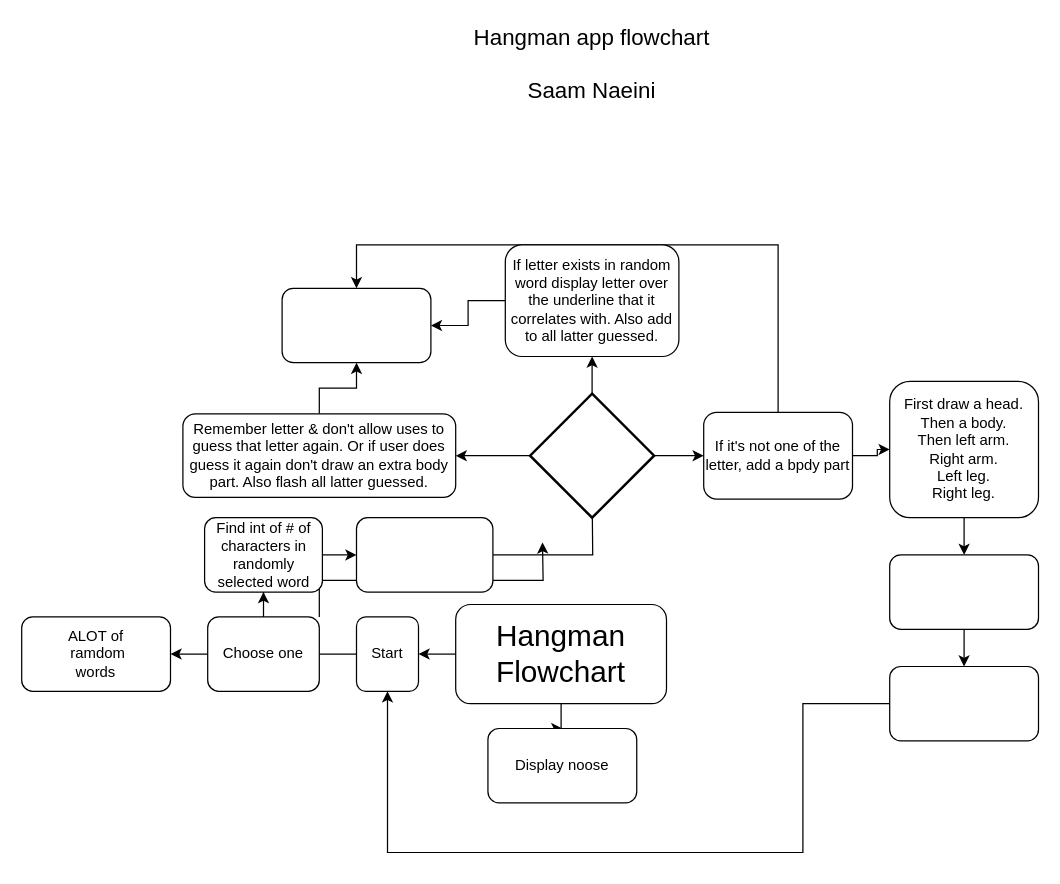
Some shapes in this 1060 by 884 pixel diagram are drawn without their labels. Each missing label, with the centre of its shape:
"All letter guessed." goes at pixel 356 325.
"Ask user for a letter" goes at pixel 591 455.
"Display the number of characters as line underneath the noose" goes at pixel 424 554.
"If everything is drawn display 'Game over' & 'Play again'" goes at pixel 963 591.
"Play again: Reset game." goes at pixel 963 703.
